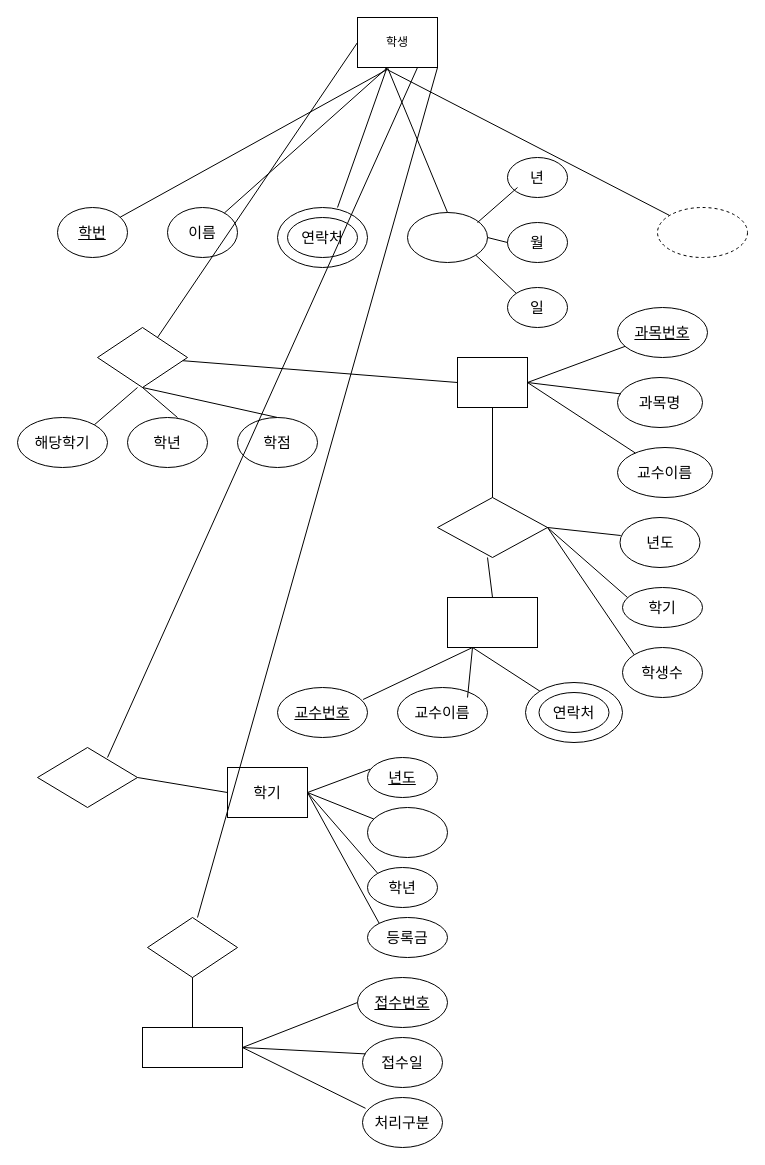
This 765x1165 diagram has some shape labels left out. Each missing label, with the centre of its shape:
과목: pixel 492 382
교수: pixel 492 622
담당: pixel 492 527
등록: pixel 87 777
만 나이: pixel 702 232
생년월일: pixel 447 237
수강: pixel 142 357
신청: pixel 192 947
학기구분: pixel 407 832
휴복학신청: pixel 192 1047
